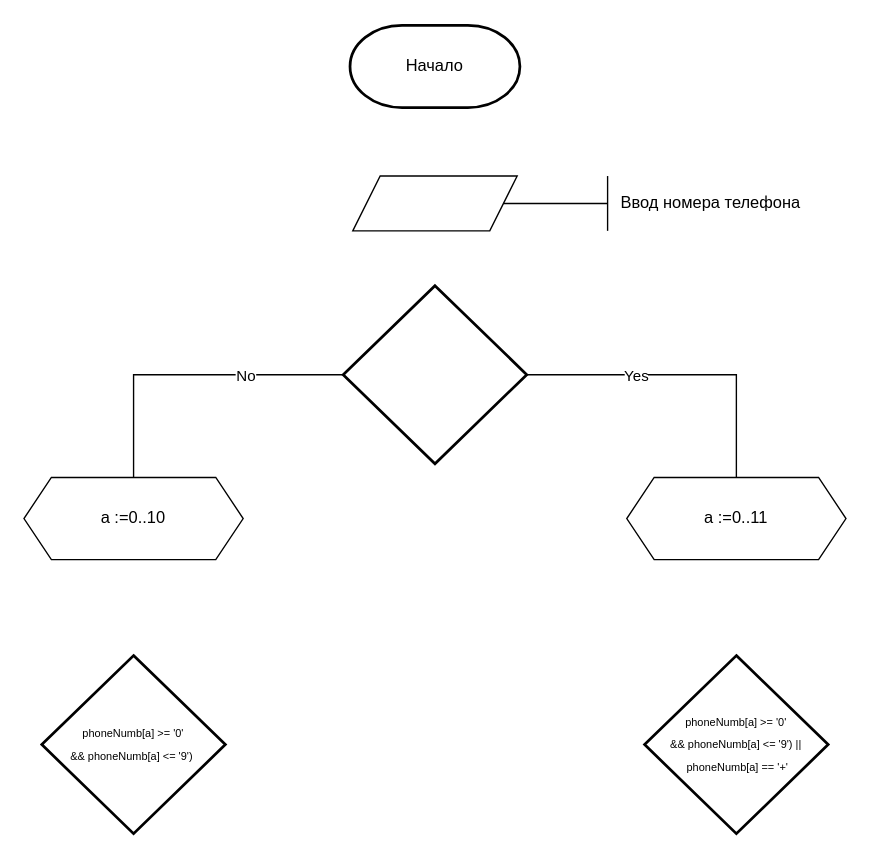
The diagram is 870 pixels wide and 858 high, and some of its shapes have lost their labels. Each missing label, with the centre of its shape:
"*phoneNumb" goes at (x=434, y=203).
"phoneNumb[0] == '+'" goes at (x=434, y=374).
